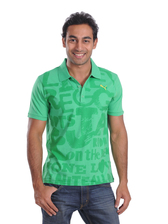clothoes: (24, 58, 129, 188)
